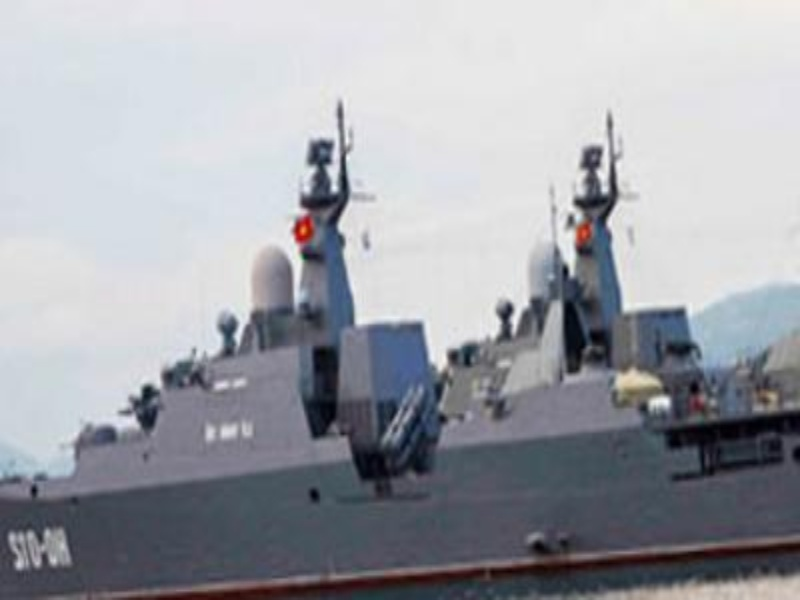cruise: (32, 159, 800, 585)
